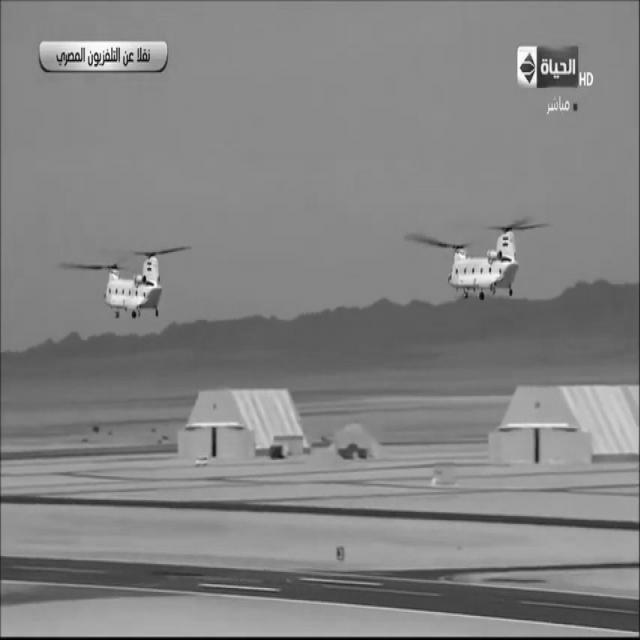helikopter: (413, 204, 541, 314), (66, 240, 195, 327)
